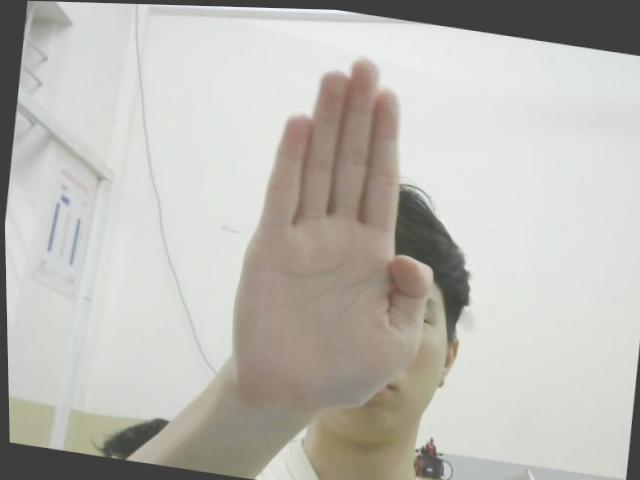B: (215, 35, 458, 423)
